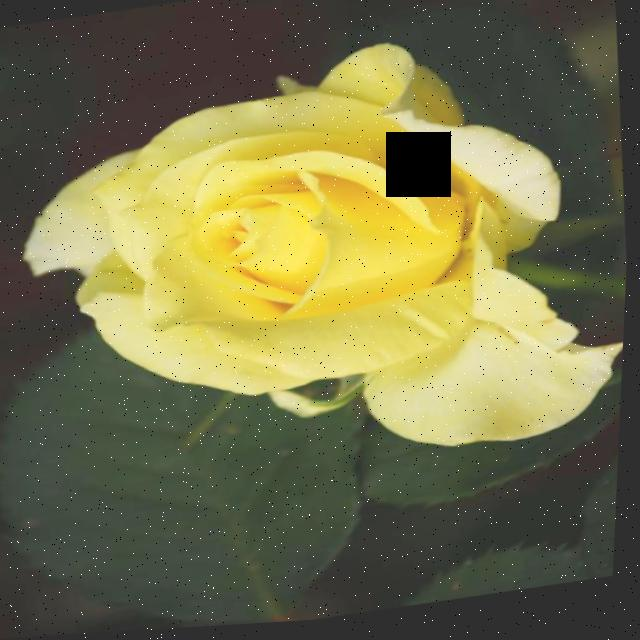rose: (3, 19, 622, 503)
